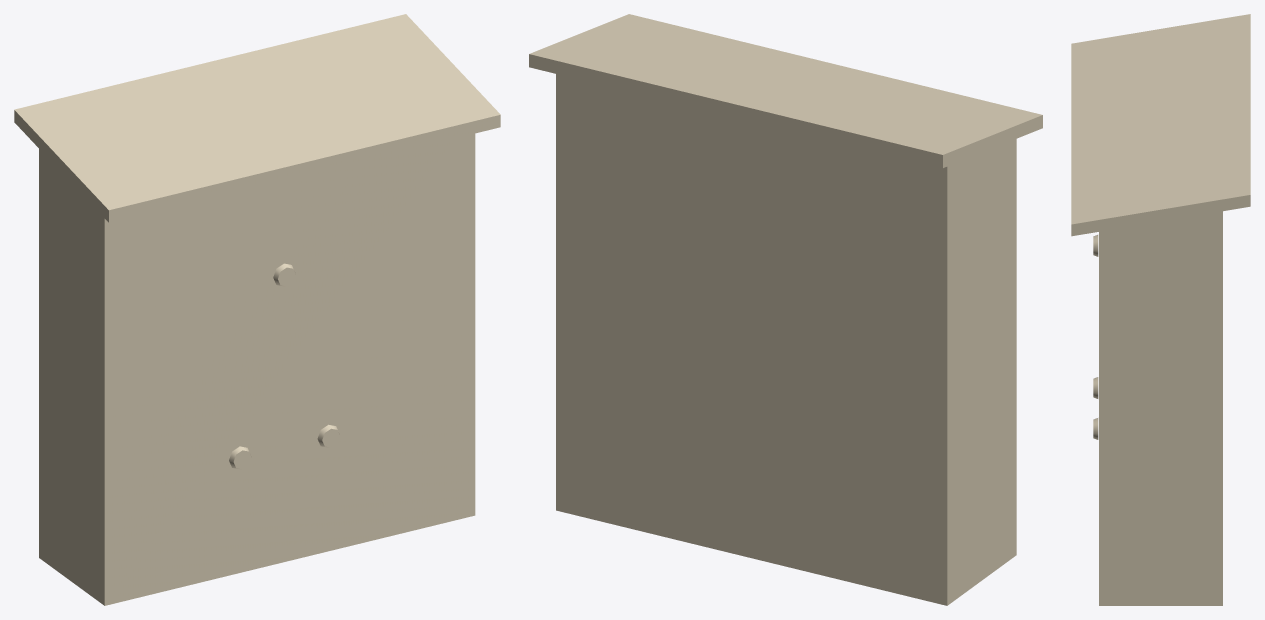
The model's file is Electric_Box_C_Snaps004.FBX.
The picture shows the model from 3 angles, left to right: view 1: azimuth 30°, elevation 25°; view 2: azimuth 150°, elevation 25°; view 3: azimuth 270°, elevation 25°; orthographic projection. The views are drawn at different scales.
Parts seen in each view (by area): view 1: Geometry_Electric_Box_C_LOD00; view 2: Geometry_Electric_Box_C_LOD00; view 3: Geometry_Electric_Box_C_LOD00.
Boxes of the visible parts, x1=… form: Geometry_Electric_Box_C_LOD00: x1=14, y1=14, x2=500, y2=605; Geometry_Electric_Box_C_LOD00: x1=529, y1=14, x2=1042, y2=605; Geometry_Electric_Box_C_LOD00: x1=1071, y1=14, x2=1250, y2=605.
Size of what is drawn, in the model's own units: 61.99 by 66.54 by 25.95.
